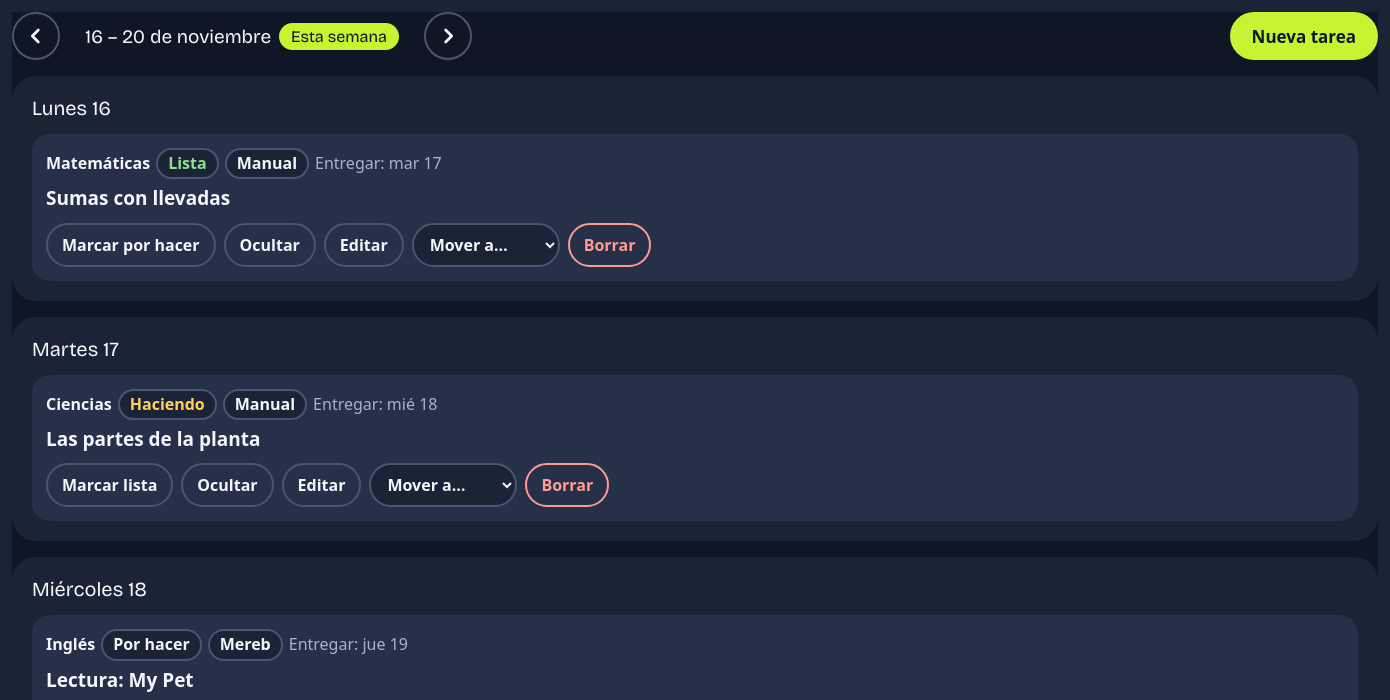
Test: TasksTab negative › a server error shows its message next to the task and keeps the state
Select "Viernes 20" in the dropdown named "Mover a otro día: Las partes de la planta" at (443, 486), box top-left (369, 464), bottom-right (517, 508)
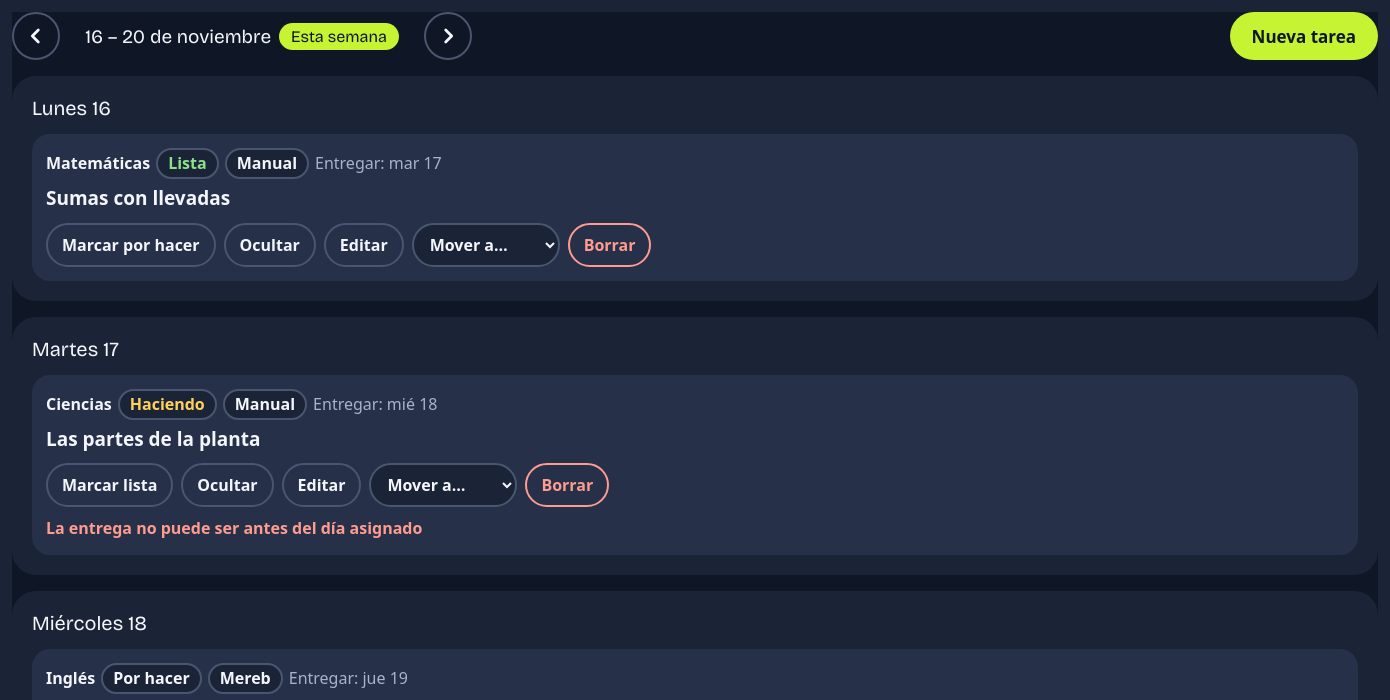
Expected: the text "Las partes de la planta" is shown, top-left (46, 426), bottom-right (260, 452)
Result: the message reads "La entrega no puede ser antes del día asignado" at top-left (46, 518), bottom-right (422, 540)
